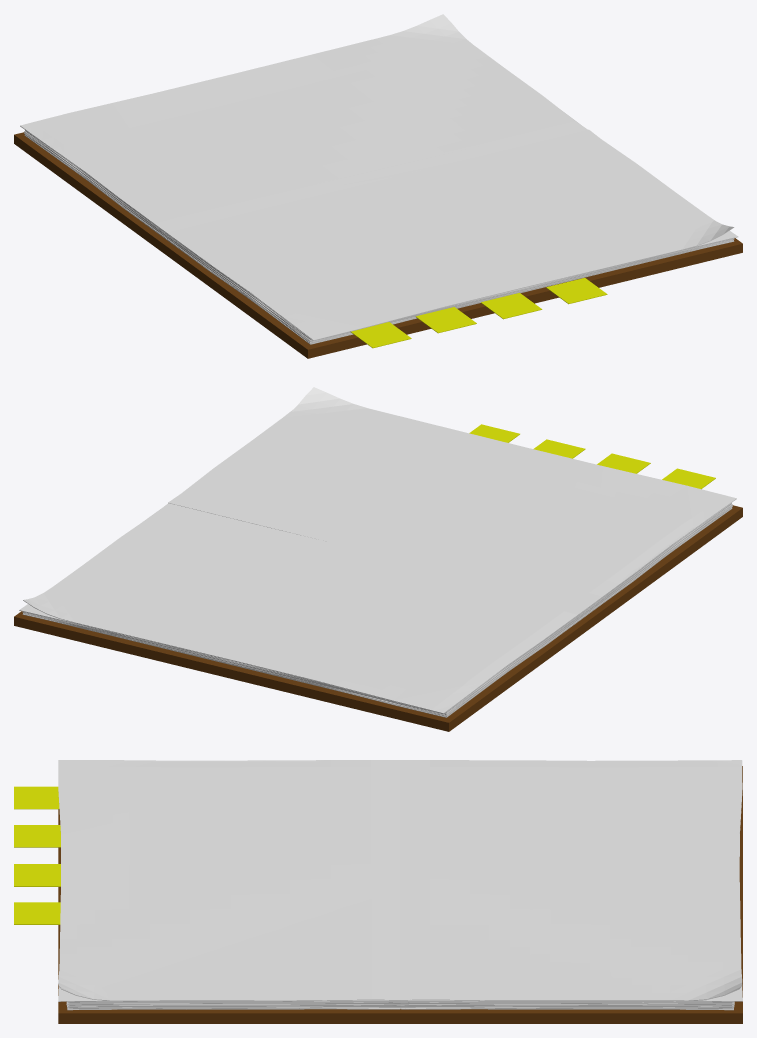
Rendered from Low_Poly Book.fbx.
3 views of the same model, one above another, from view 1: azimuth 30°, elevation 25°; view 2: azimuth 150°, elevation 25°; view 3: azimuth 270°, elevation 25° (orthographic). The views are drawn at different scales.
Parts seen in each view (by area): view 1: Page - Turned - Right, Page - Turned - Left, Page - Unturned, Book_Pages - LeftPanel, Book_Pages - RightPanel, Page - Flat - Right, Tab2, Tab3, Tab4, Tab1; view 2: Page - Turned - Right, Page - Turned - Left, Page - Unturned, Book_Pages - RightPanel, Book_Pages - LeftPanel, Page - Flat - Right, Tab1, Tab2; view 3: Page - Turned - Right, Page - Turned - Left, Page - Unturned, Book_Pages - RightPanel, Book_Pages - LeftPanel, Page - Flat - Right, Tab1, Tab2, Tab3, Tab4, Book_Pages - MiddlePanel.
Boxes of the visible parts, bbox=[...] form: Page - Turned - Right: bbox=[21, 14, 587, 232]; Page - Turned - Left: bbox=[167, 171, 734, 340]; Page - Unturned: bbox=[200, 129, 738, 340]; Book_Pages - LeftPanel: bbox=[161, 234, 742, 358]; Book_Pages - RightPanel: bbox=[14, 112, 580, 253]; Page - Flat - Right: bbox=[20, 123, 576, 232]; Tab2: bbox=[415, 307, 476, 333]; Tab3: bbox=[481, 293, 542, 319]; Tab4: bbox=[546, 278, 607, 304]; Tab1: bbox=[350, 322, 411, 348]; Page - Turned - Right: bbox=[23, 503, 589, 713]; Page - Turned - Left: bbox=[291, 387, 736, 605]; Page - Unturned: bbox=[168, 410, 696, 581]; Book_Pages - RightPanel: bbox=[14, 509, 599, 731]; Book_Pages - LeftPanel: bbox=[589, 503, 742, 623]; Page - Flat - Right: bbox=[19, 510, 589, 713]; Tab1: bbox=[662, 468, 715, 489]; Tab2: bbox=[597, 453, 650, 473]; Page - Turned - Right: bbox=[400, 760, 742, 1000]; Page - Turned - Left: bbox=[58, 760, 400, 1000]; Page - Unturned: bbox=[58, 760, 400, 1001]; Book_Pages - RightPanel: bbox=[401, 766, 742, 1023]; Book_Pages - LeftPanel: bbox=[58, 809, 408, 1023]; Page - Flat - Right: bbox=[400, 760, 742, 1001]; Tab1: bbox=[14, 786, 59, 809]; Tab2: bbox=[14, 825, 60, 847]; Tab3: bbox=[14, 864, 60, 886]; Tab4: bbox=[14, 902, 60, 924]; Book_Pages - MiddlePanel: bbox=[379, 1000, 421, 1023].
Size of the model in its own units: 1000 by 66.76 by 1246.
